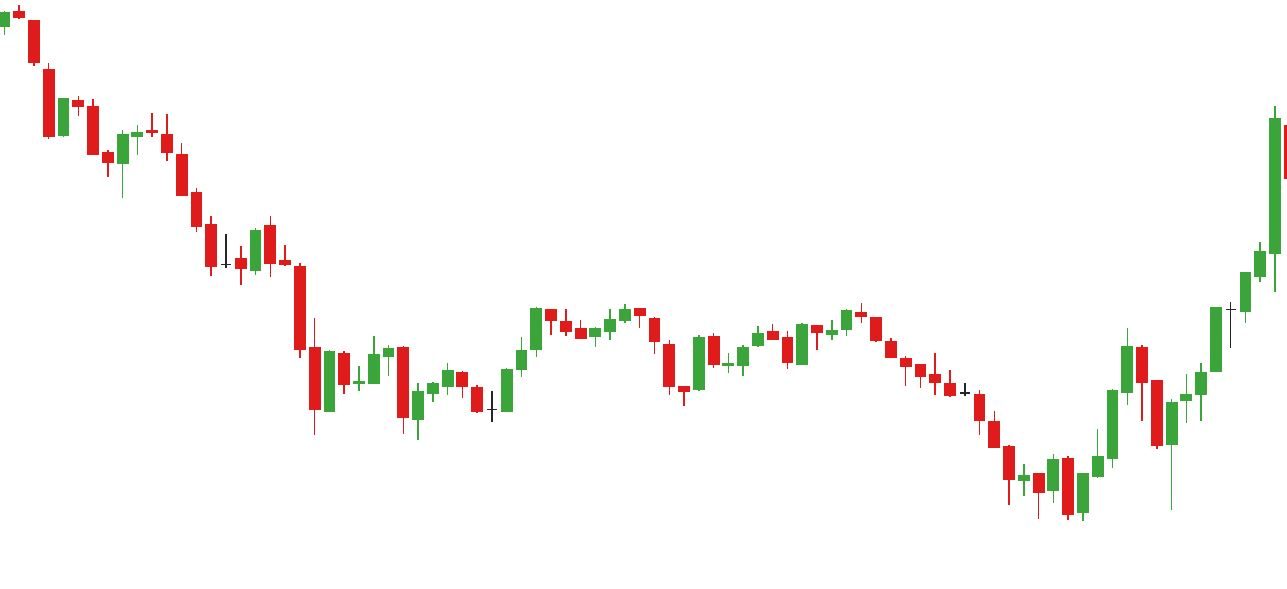sell: (308, 305, 574, 385)
